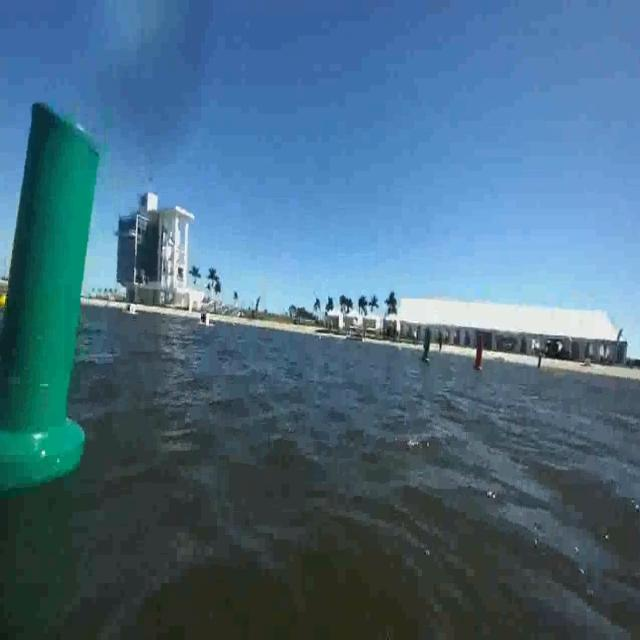green-column-buoy: (0, 6, 95, 488), (421, 327, 434, 364)
red-column-buoy: (472, 333, 486, 371)
yellow-buoy: (0, 292, 8, 306)
